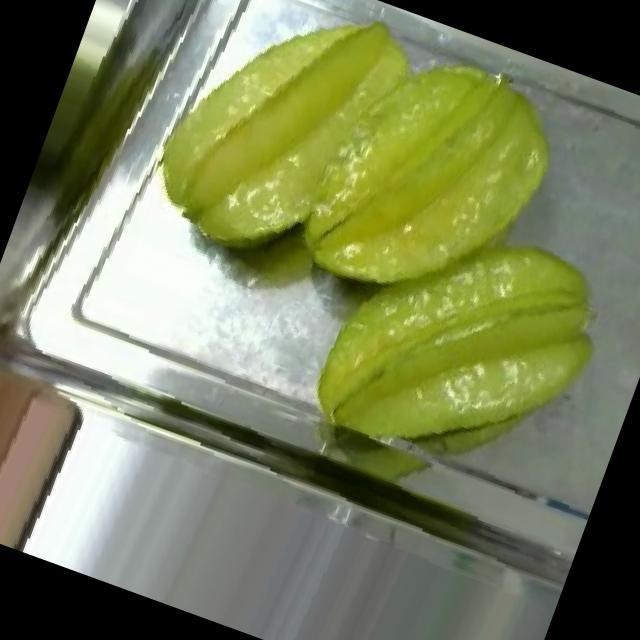fruit: (124, 0, 607, 367), (286, 174, 638, 514), (0, 317, 110, 558)
